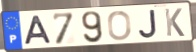7: (52, 11, 75, 46)
9: (80, 10, 103, 44)
A: (23, 14, 54, 46)
J: (137, 8, 159, 39)
K: (163, 7, 187, 38)
O: (107, 10, 133, 42)
